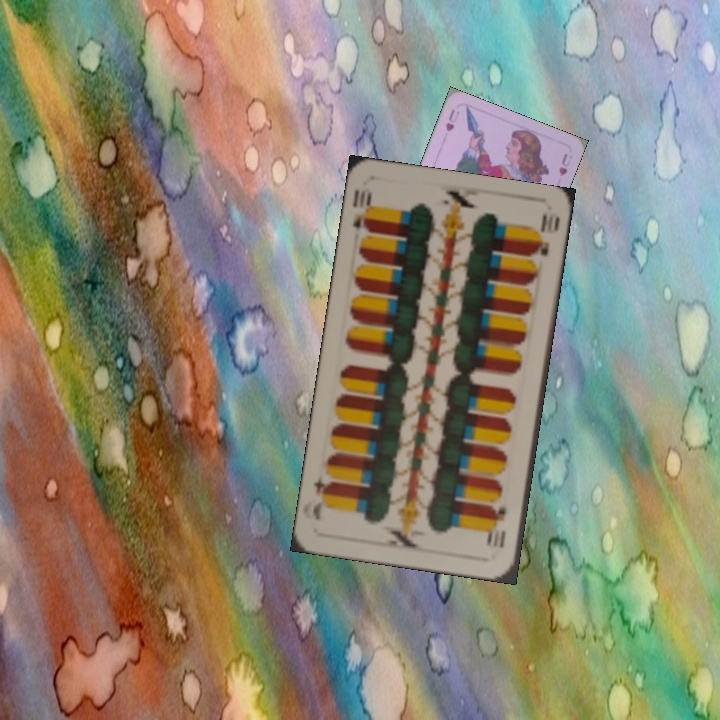E10: (349, 185, 374, 236), (486, 502, 509, 551)
HU: (441, 105, 462, 134)
